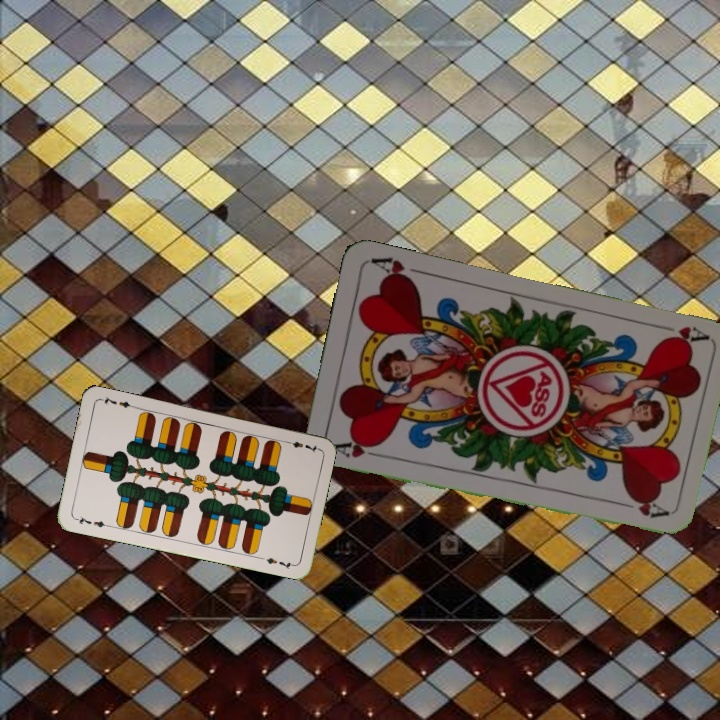E7: (71, 512, 111, 530), (280, 437, 320, 455)
HA: (650, 320, 709, 348), (326, 434, 384, 461)
